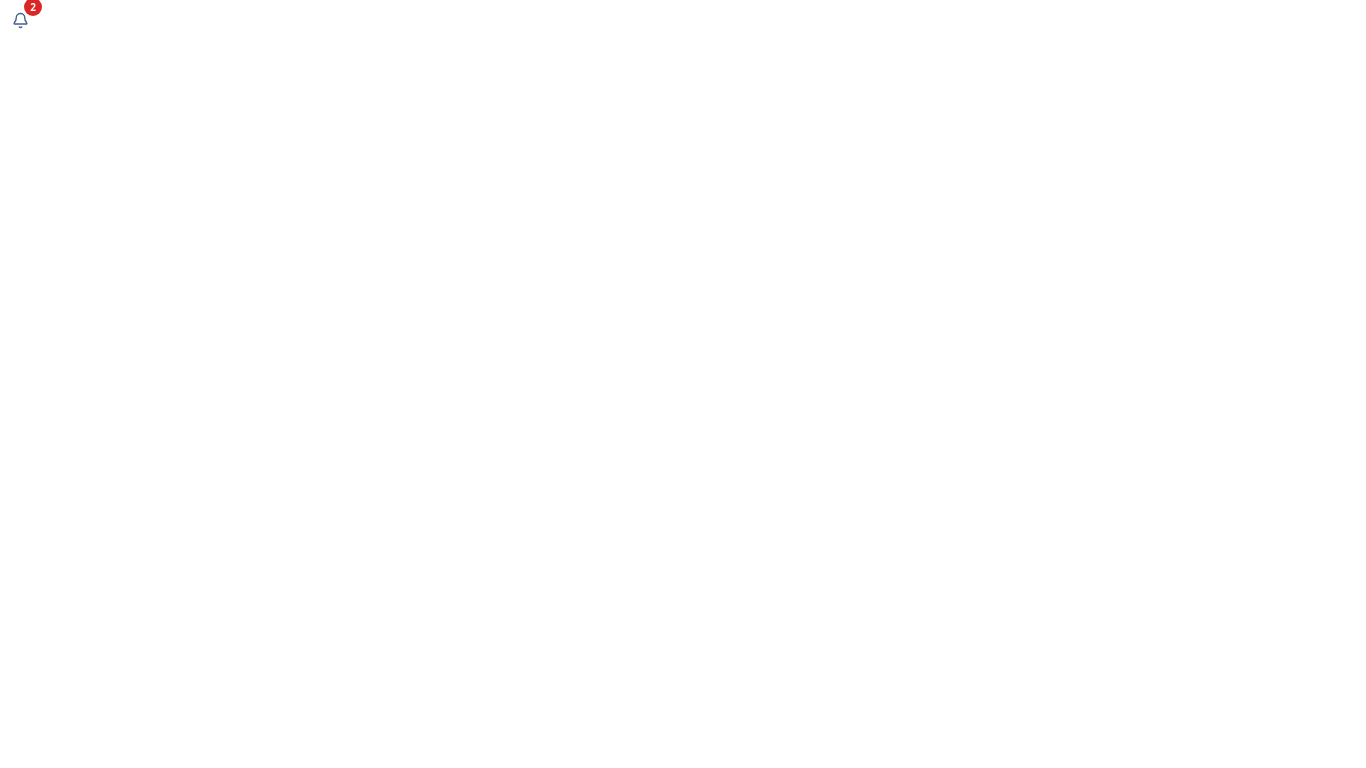
it: CampanaNotificaciones › quita una notificación solo de mi lista
Click the button named "Notificaciones: 2 sin leer".
click(20, 20)  # box [0,0,40,40]
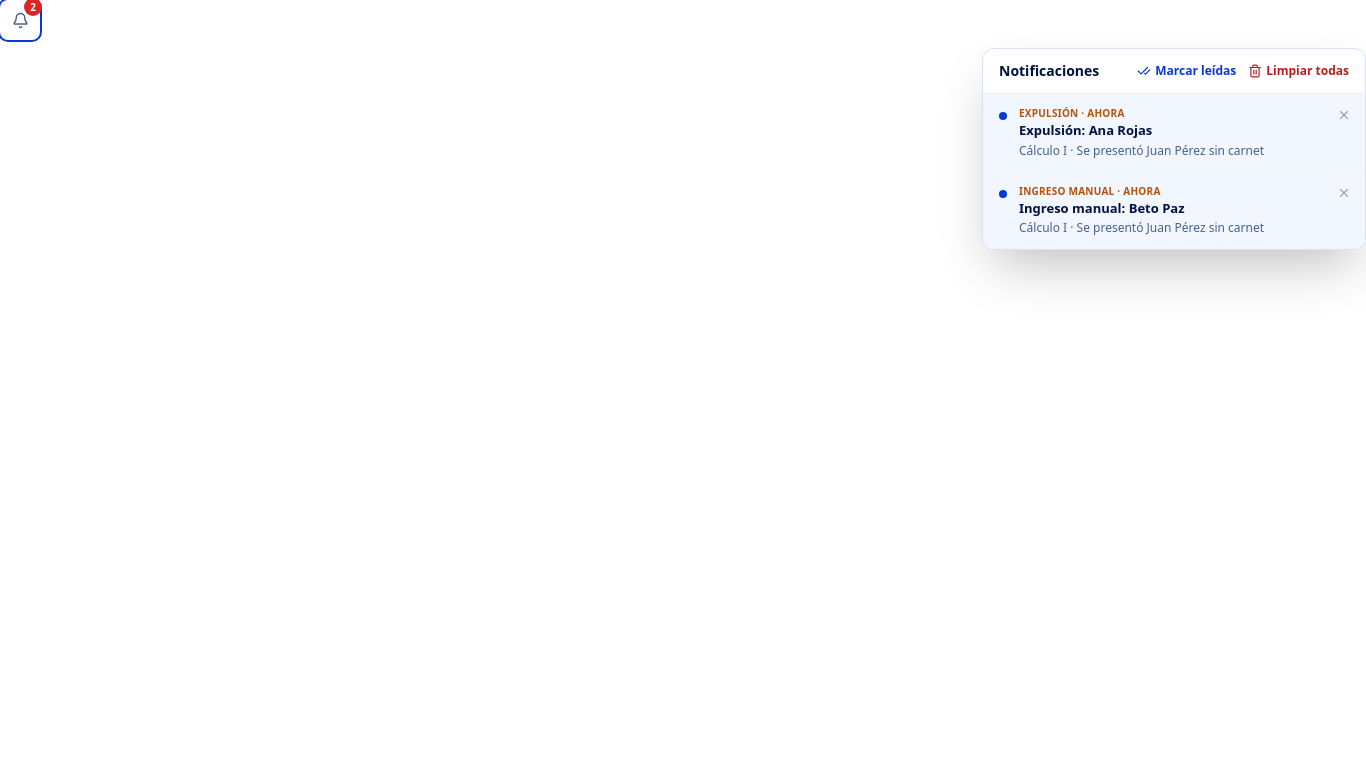
Expected: the text "Expulsión · ahora" is shown, [1019,106,1125,120]
Expected: the text "Ingreso manual · ahora" is shown, [1019,184,1161,198]
Click the button named "Quitar notificación: Expulsión: Ana Rojas".
click(1344, 115)  # box [1331,102,1357,128]
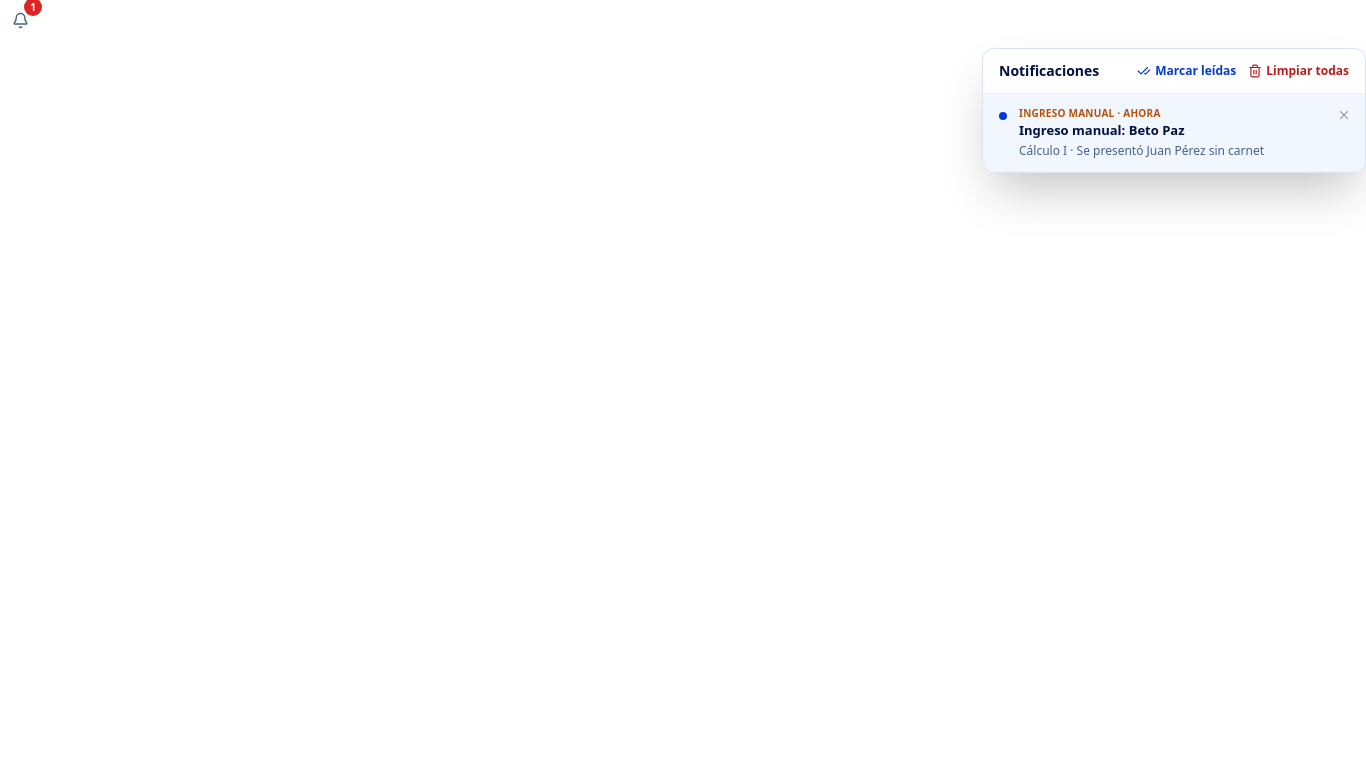
Expected: the text "Ingreso manual: Beto Paz" is shown, [1019,121,1184,139]
Expected: the button "Expulsión: Ana Rojas" is gone
Expected: the button named "Notificaciones: 1 sin leer" is shown, [0,0,40,40]
